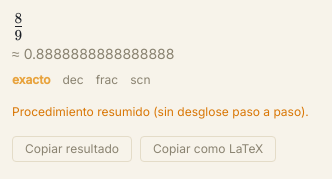
ResultPanel › Fase 2.5 — selector de formato dec/frac/scn/exacto › volver a 'exacto' muestra de nuevo el resultado original con el aproximado debajo
This screenshot has width=332, height=179.
Click the button "dec": (73, 80) [62,72,84,88]
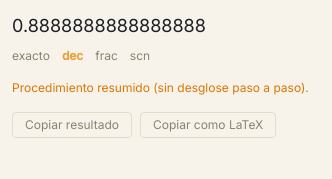
Click the button "exacto": (31, 56) [12,48,50,64]
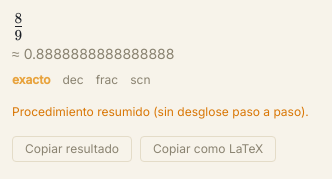
Now the text "≈ 0.8888888888888888" is shown, box [12,45,174,62]
